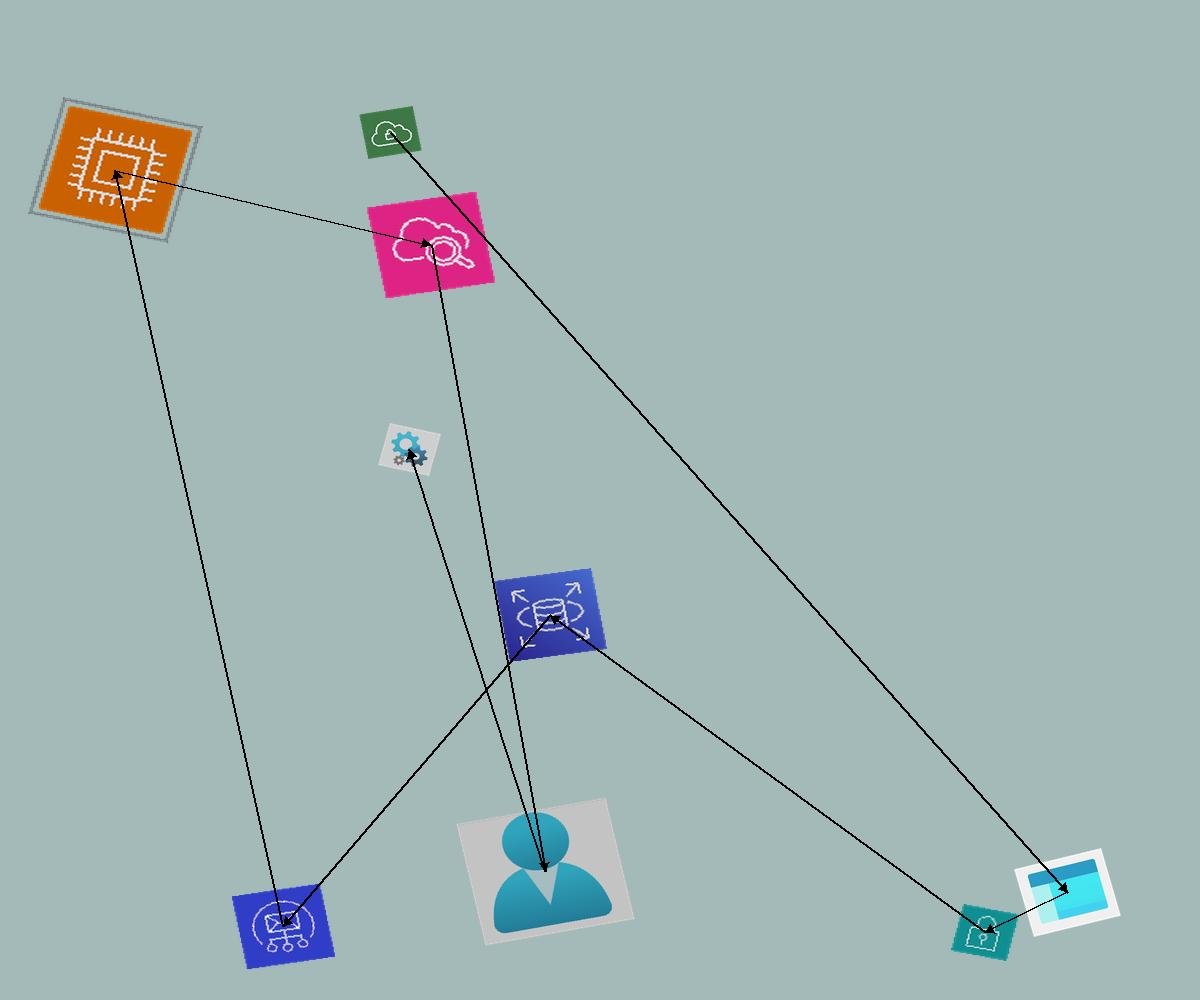AWS-Category_Compute: (28, 97, 203, 243)
AWS-CloudWatch: (366, 191, 496, 299)
AWS-Private-subnet: (951, 904, 1019, 961)
AWS-Private_vpc: (359, 106, 422, 159)
AWS-RDS: (494, 568, 607, 662)
AWS-Simple-Email-Service: (231, 883, 336, 970)
Azure_api: (378, 423, 441, 476)
Azure_management-portal: (1014, 848, 1121, 937)
Azure_users: (456, 797, 635, 946)
